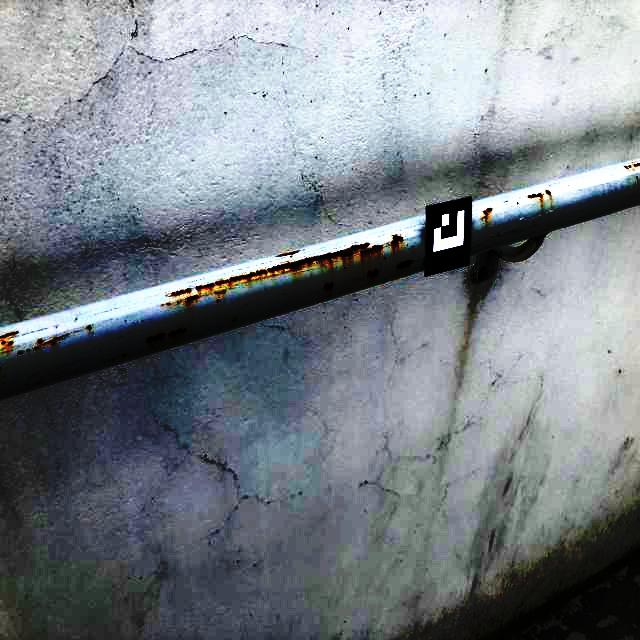Corrosion: (193, 241, 383, 290), (33, 334, 70, 351), (145, 332, 165, 344), (170, 287, 191, 297), (276, 250, 301, 258), (168, 327, 187, 337), (0, 330, 18, 340), (184, 294, 200, 305), (396, 259, 413, 269), (391, 234, 404, 246), (367, 268, 381, 279), (482, 206, 493, 219), (478, 266, 488, 280), (324, 281, 335, 292), (527, 193, 543, 200), (215, 288, 227, 295), (2, 340, 13, 347), (545, 189, 551, 196), (633, 162, 640, 168), (18, 349, 24, 355), (623, 165, 632, 169), (233, 316, 238, 323), (121, 353, 127, 358), (176, 300, 181, 306), (217, 298, 221, 304), (87, 325, 91, 330), (166, 302, 171, 306), (0, 365, 2, 370), (27, 349, 30, 352), (344, 266, 347, 269), (636, 176, 638, 180), (384, 257, 386, 260), (516, 202, 519, 204)
